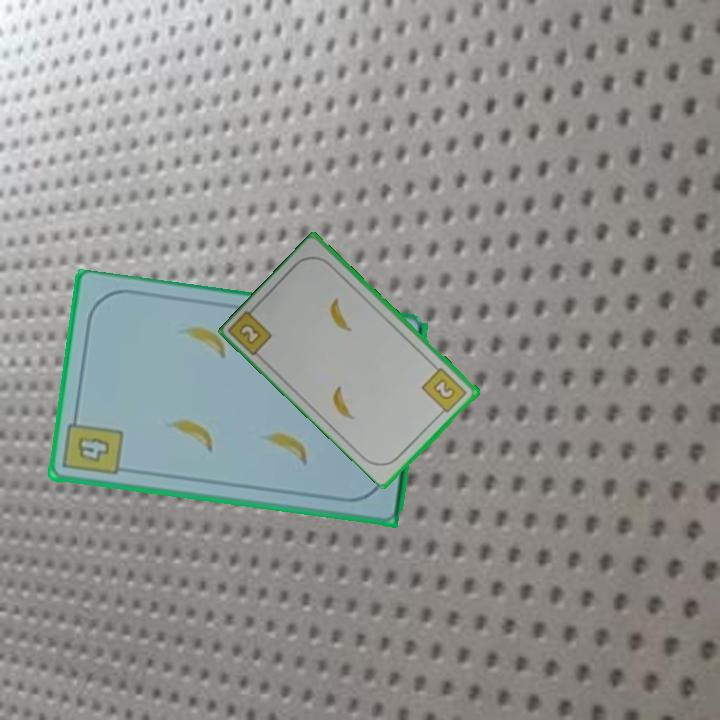2b: (418, 364, 470, 418), (236, 320, 264, 348)
4b: (59, 410, 126, 478)
